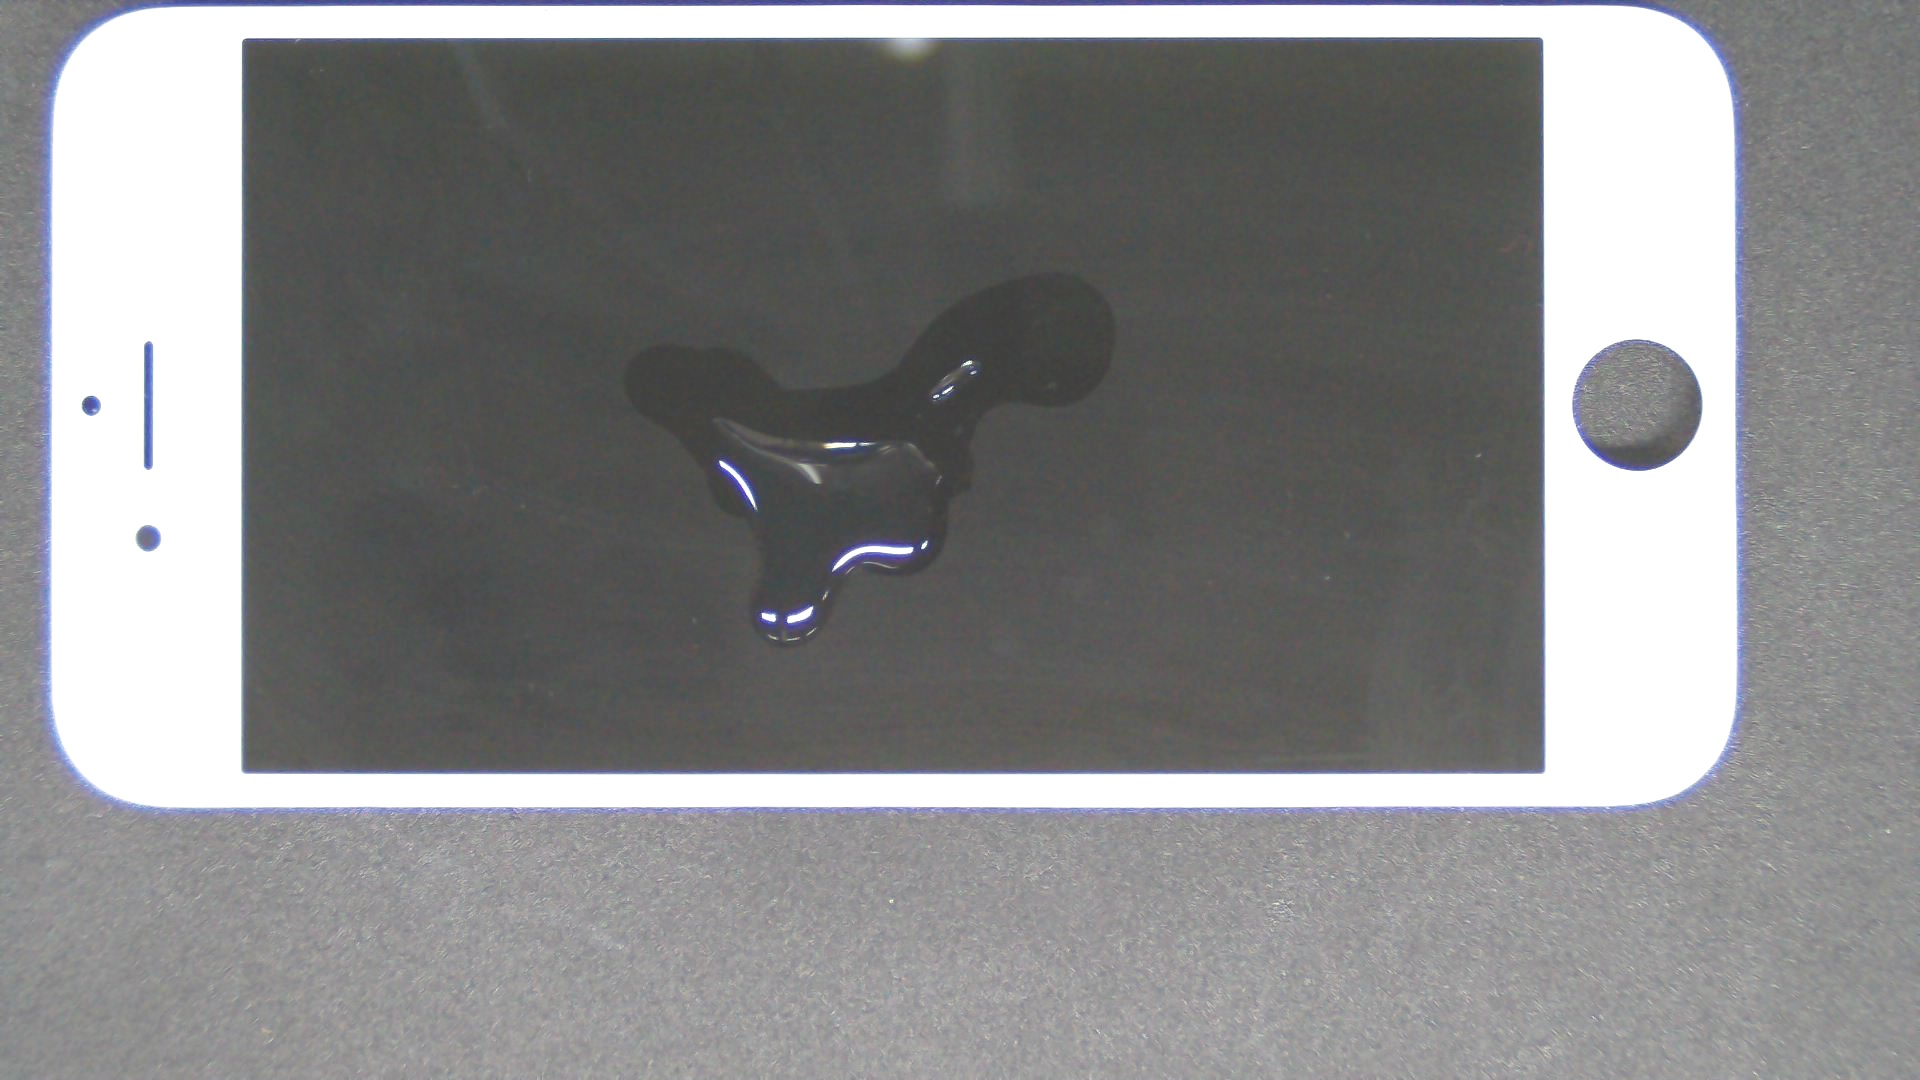oil: (526, 135, 1575, 406)
